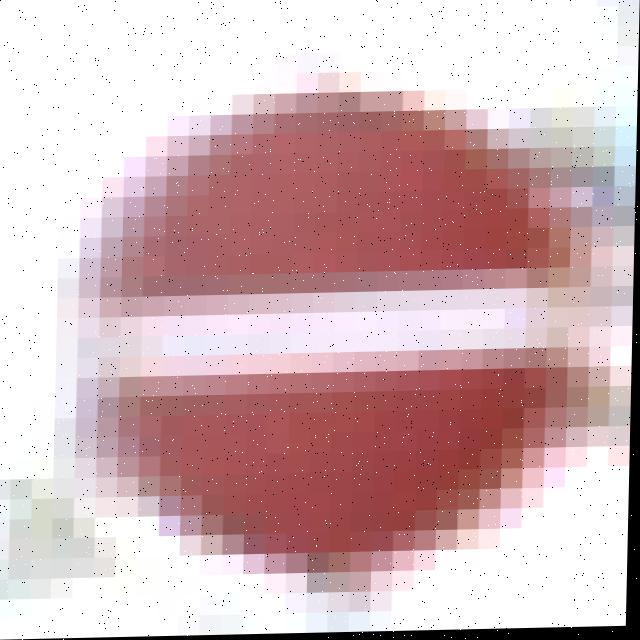road_rough: (29, 46, 639, 599)
